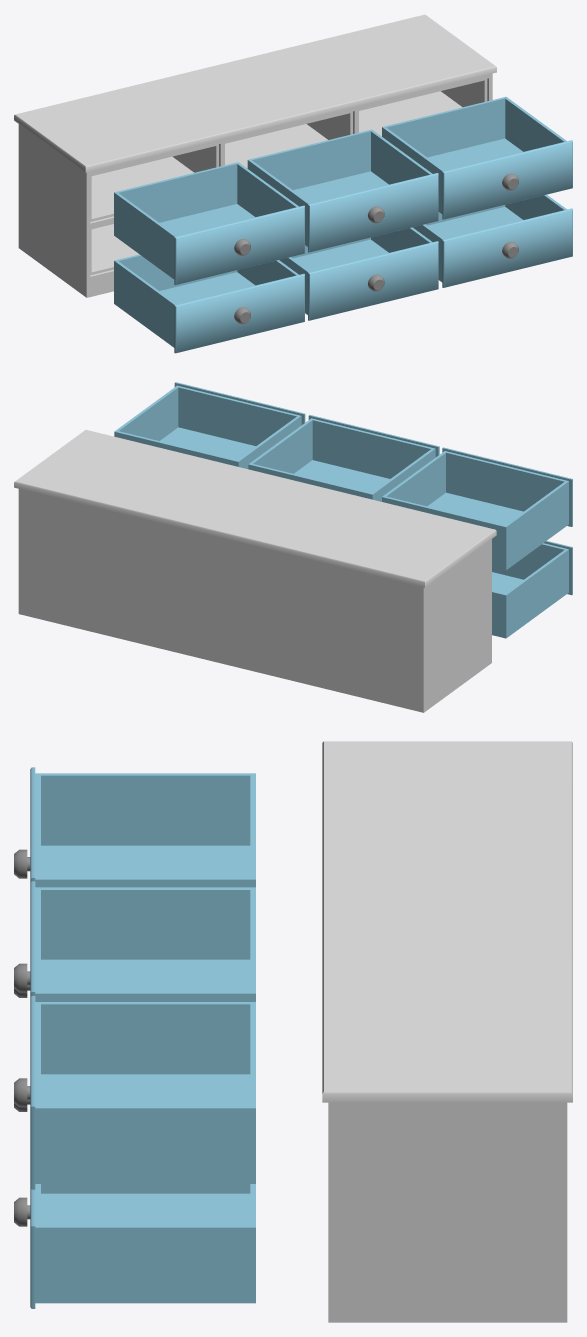
The model's file is FURNITURE_kidCommode_01.FBX.
The picture shows the model from 3 angles, top to bottom: view 1: azimuth 30°, elevation 25°; view 2: azimuth 150°, elevation 25°; view 3: azimuth 270°, elevation 25°; orthographic projection. The views are drawn at different scales.
Visible parts, largest first — view 1: FURNITURE_kidCommode_01_base, FURNITURE_kidCommode_01_drawer_01_inside, FURNITURE_kidCommode_01_drawer_03_inside, FURNITURE_kidCommode_01_drawer_02_inside, FURNITURE_kidCommode_01_drawer_01, FURNITURE_kidCommode_01_drawer_03, FURNITURE_kidCommode_01_drawer_05, FURNITURE_kidCommode_01_drawer_02, FURNITURE_kidCommode_01_drawer_06, FURNITURE_kidCommode_01_drawer_04, FURNITURE_kidCommode_01_drawer_04_inside, FURNITURE_kidCommode_01_drawer_06_inside (+1 smaller); view 2: FURNITURE_kidCommode_01_base, FURNITURE_kidCommode_01_drawer_01_inside, FURNITURE_kidCommode_01_drawer_03_inside, FURNITURE_kidCommode_01_drawer_02_inside, FURNITURE_kidCommode_01_drawer_04_inside; view 3: FURNITURE_kidCommode_01_base, FURNITURE_kidCommode_01_drawer_03_inside, FURNITURE_kidCommode_01_drawer_06_inside, FURNITURE_kidCommode_01_drawer_01_inside, FURNITURE_kidCommode_01_drawer_02_inside, FURNITURE_kidCommode_01_drawer_03, FURNITURE_kidCommode_01_drawer_06, FURNITURE_kidCommode_01_drawer_02, FURNITURE_kidCommode_01_drawer_01.
Boxes of the visible parts, x1=… form: FURNITURE_kidCommode_01_base: x1=14, y1=14, x2=496, y2=297; FURNITURE_kidCommode_01_drawer_01_inside: x1=114, y1=162, x2=298, y2=279; FURNITURE_kidCommode_01_drawer_03_inside: x1=382, y1=96, x2=566, y2=213; FURNITURE_kidCommode_01_drawer_02_inside: x1=247, y1=129, x2=432, y2=246; FURNITURE_kidCommode_01_drawer_01: x1=174, y1=205, x2=304, y2=285; FURNITURE_kidCommode_01_drawer_03: x1=442, y1=140, x2=572, y2=219; FURNITURE_kidCommode_01_drawer_05: x1=308, y1=241, x2=438, y2=320; FURNITURE_kidCommode_01_drawer_02: x1=308, y1=173, x2=438, y2=252; FURNITURE_kidCommode_01_drawer_06: x1=442, y1=208, x2=572, y2=287; FURNITURE_kidCommode_01_drawer_04: x1=174, y1=273, x2=304, y2=353; FURNITURE_kidCommode_01_drawer_04_inside: x1=114, y1=254, x2=298, y2=347; FURNITURE_kidCommode_01_drawer_06_inside: x1=413, y1=194, x2=566, y2=282; FURNITURE_kidCommode_01_base: x1=14, y1=430, x2=496, y2=712; FURNITURE_kidCommode_01_drawer_01_inside: x1=382, y1=448, x2=571, y2=570; FURNITURE_kidCommode_01_drawer_03_inside: x1=114, y1=383, x2=304, y2=468; FURNITURE_kidCommode_01_drawer_02_inside: x1=248, y1=415, x2=438, y2=501; FURNITURE_kidCommode_01_drawer_04_inside: x1=492, y1=541, x2=571, y2=638; FURNITURE_kidCommode_01_base: x1=322, y1=741, x2=572, y2=1322; FURNITURE_kidCommode_01_drawer_03_inside: x1=35, y1=1002, x2=255, y2=1183; FURNITURE_kidCommode_01_drawer_06_inside: x1=35, y1=1184, x2=255, y2=1303; FURNITURE_kidCommode_01_drawer_01_inside: x1=35, y1=773, x2=255, y2=887; FURNITURE_kidCommode_01_drawer_02_inside: x1=35, y1=887, x2=255, y2=1001; FURNITURE_kidCommode_01_drawer_03: x1=14, y1=996, x2=35, y2=1189; FURNITURE_kidCommode_01_drawer_06: x1=14, y1=1188, x2=35, y2=1308; FURNITURE_kidCommode_01_drawer_02: x1=14, y1=881, x2=35, y2=997; FURNITURE_kidCommode_01_drawer_01: x1=14, y1=767, x2=35, y2=882.
Size of the model in its own units: 203 by 62.81 by 137.
